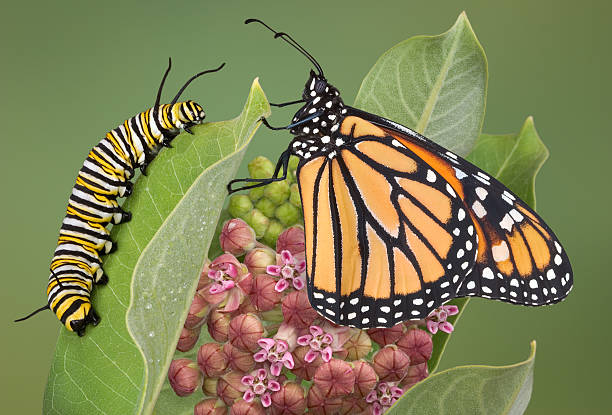Butterfly: (227, 15, 574, 331)
Caterpillar: (17, 58, 225, 336)
